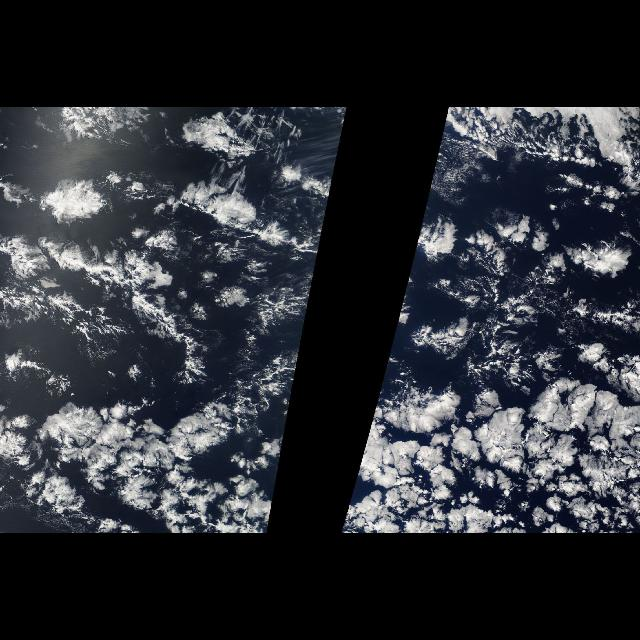Flower: (0, 109, 348, 533), (340, 211, 640, 533)
